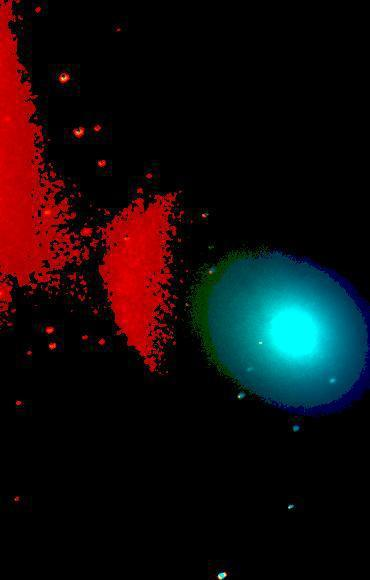star: (244, 327, 274, 357)
